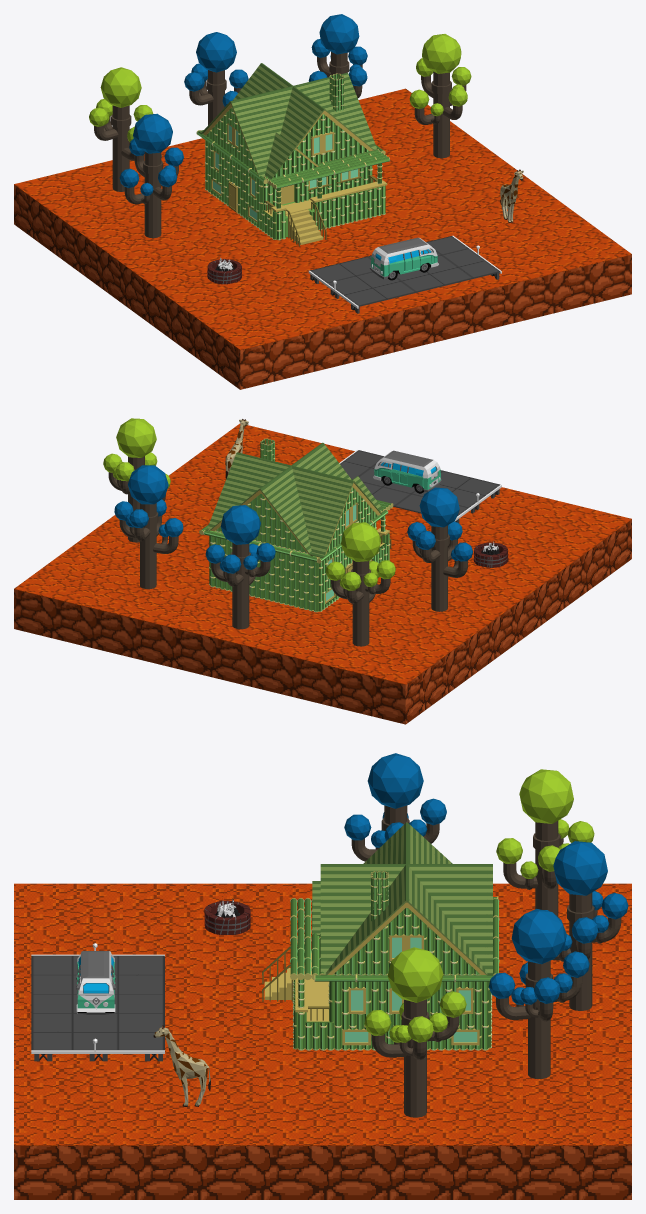
The picture shows the model from 3 angles, top to bottom: view 1: azimuth 30°, elevation 25°; view 2: azimuth 150°, elevation 25°; view 3: azimuth 270°, elevation 25°; orthographic projection. The views are drawn at different scales.
Visible parts, largest first — view 1: Cube.001, Cube.1327, VEHICLES_VAN, OBJRANDOM_CAMPFIRE, ANIMAL_JIRAFA; view 2: Cube.001, Cube.1327, VEHICLES_VAN, OBJRANDOM_CAMPFIRE, ANIMAL_JIRAFA; view 3: Cube.001, Cube.1327, VEHICLES_VAN, OBJRANDOM_CAMPFIRE, ANIMAL_JIRAFA.
Boxes of the visible parts, bbox=[...] form: Cube.001: bbox=[14, 14, 631, 389]; Cube.1327: bbox=[196, 63, 389, 246]; VEHICLES_VAN: bbox=[369, 237, 438, 280]; OBJRANDOM_CAMPFIRE: bbox=[207, 257, 241, 284]; ANIMAL_JIRAFA: bbox=[500, 169, 523, 222]; Cube.001: bbox=[14, 418, 631, 724]; Cube.1327: bbox=[199, 438, 393, 612]; VEHICLES_VAN: bbox=[373, 450, 442, 493]; OBJRANDOM_CAMPFIRE: bbox=[473, 541, 508, 567]; ANIMAL_JIRAFA: bbox=[225, 419, 248, 478]; Cube.001: bbox=[14, 753, 631, 1199]; Cube.1327: bbox=[262, 822, 499, 1050]; VEHICLES_VAN: bbox=[76, 951, 116, 1014]; OBJRANDOM_CAMPFIRE: bbox=[204, 896, 250, 934]; ANIMAL_JIRAFA: bbox=[153, 1025, 210, 1106].
Bounding box in the file's own units: 4000 × 1765 × 4000.
35 materials, 5 textured.
